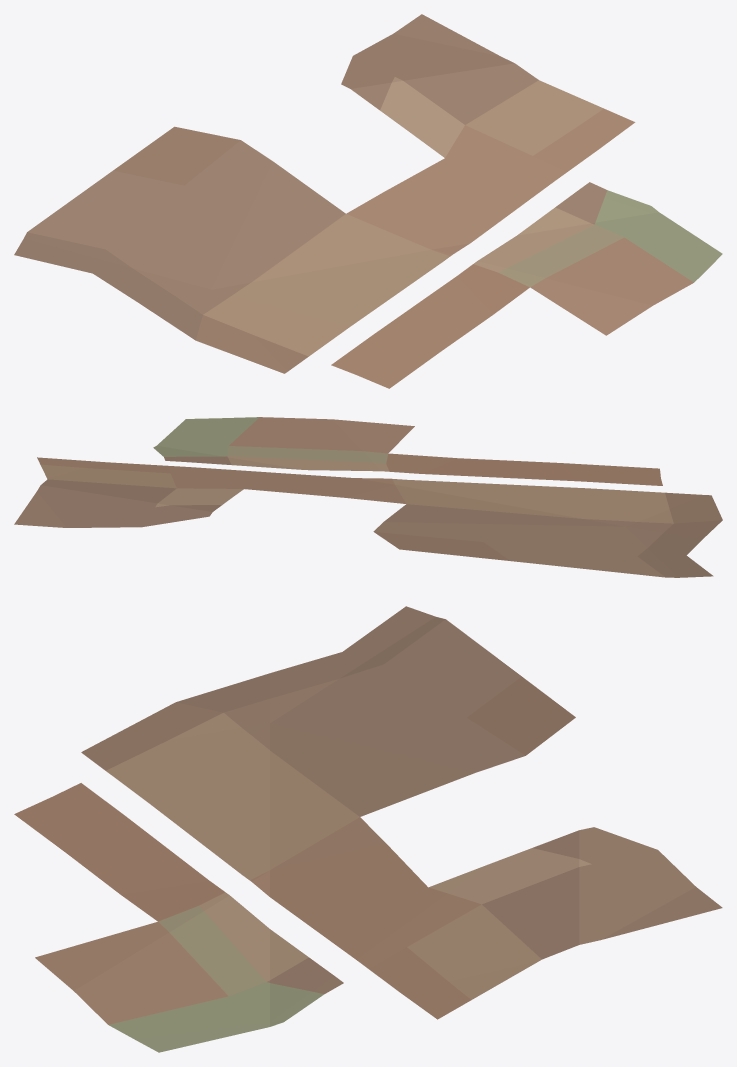
The model's file is farm_-41_-44_soil.glb.
The picture shows the model from 3 angles, top to bottom: view 1: azimuth 30°, elevation 25°; view 2: azimuth 150°, elevation 25°; view 3: azimuth 270°, elevation 25°; orthographic projection. The views are drawn at different scales.
Parts seen in each view (by area): view 1: geometry_0; view 2: geometry_0; view 3: geometry_0.
Part boxes in pixels (box(x1,y1,x2,y2)): geometry_0: box(14, 14, 722, 388); geometry_0: box(14, 417, 722, 577); geometry_0: box(14, 606, 722, 1052).
Size of the model in its own units: 230 by 33.37 by 183.
